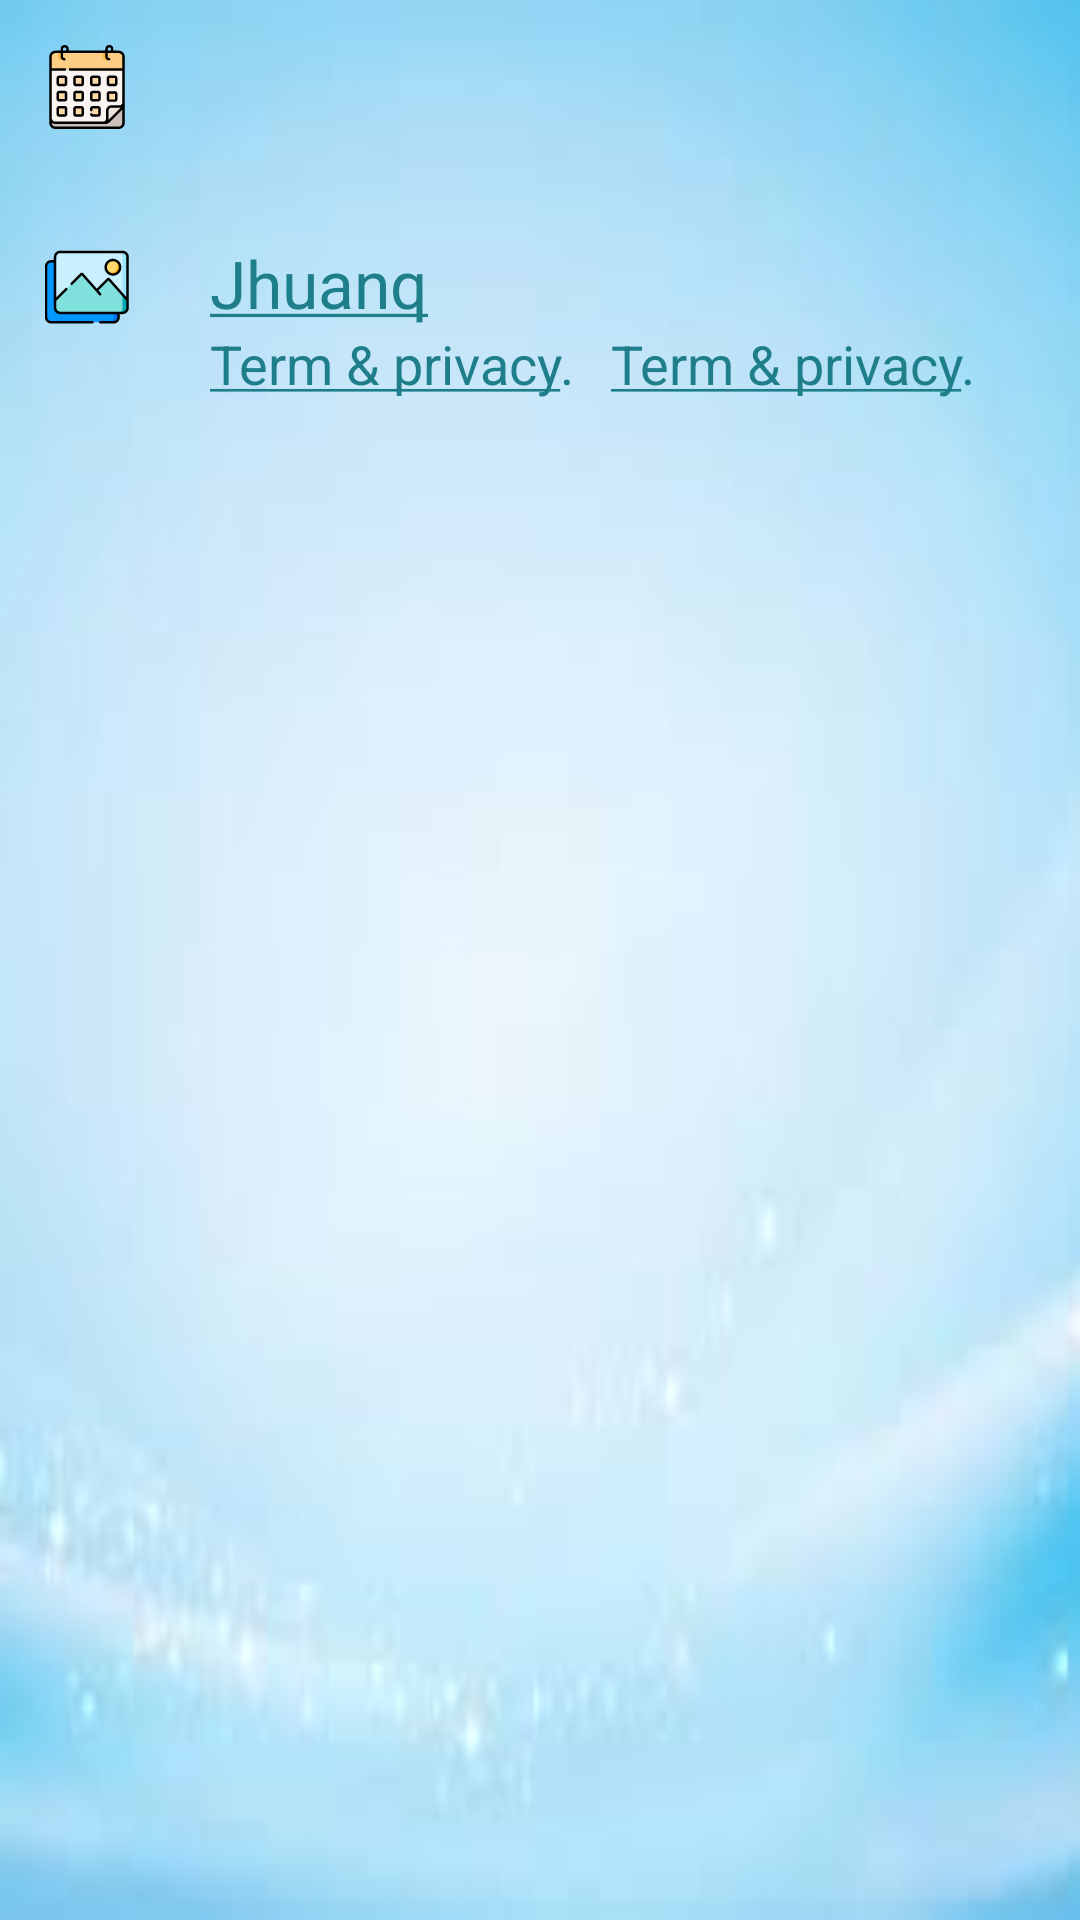

Screen size 1080x1920. Icon name, then its center in pixels as (x=x, y=y):
calendar: (x=87, y=87)
